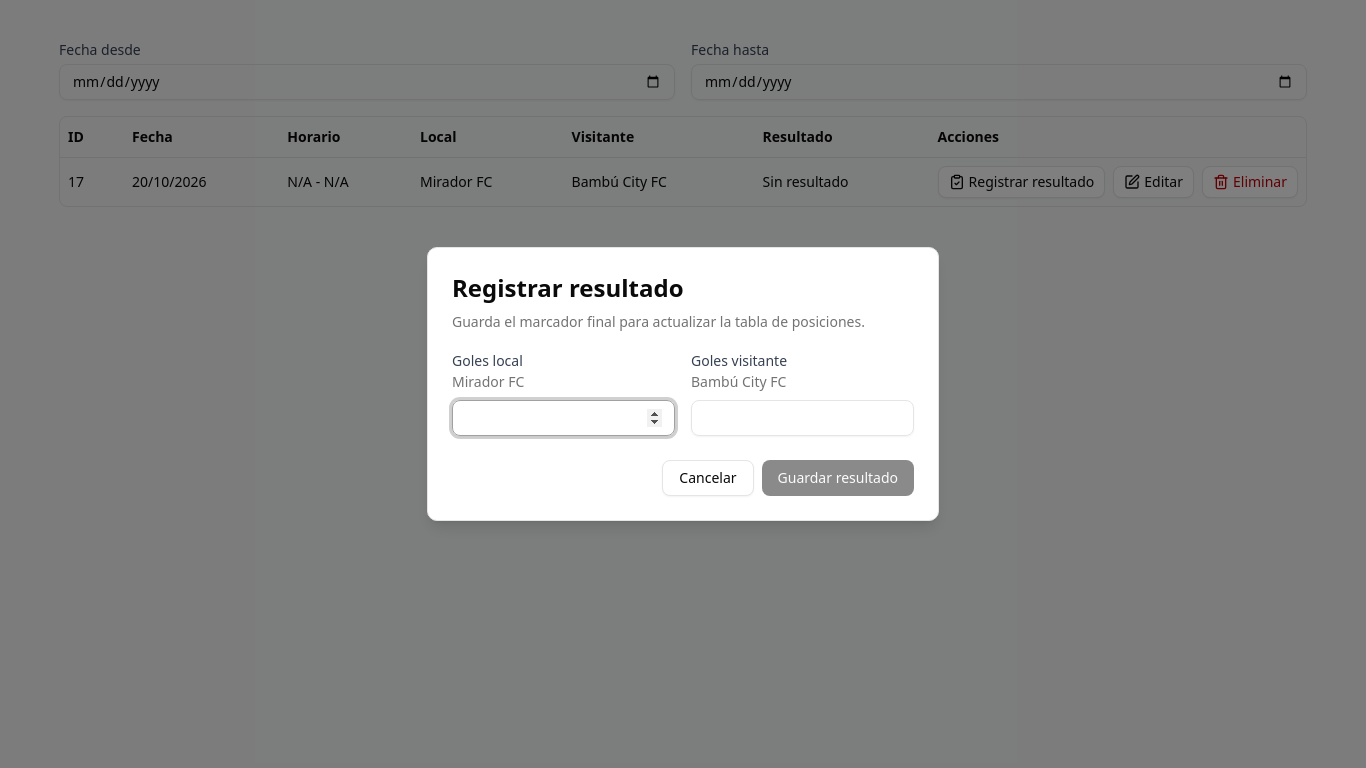
Test case: does not submit missing, negative, fractional or out-of-range scores
This screenshot has width=1366, height=768.
Earlier steps of the test are not shown.
Later steps or results of the test are not shown.
Expected: the text "Mirador FC" is shown, [452,372,524,391]
Expected: the text "Bambú City FC" is shown, [691,372,786,391]
Type "2" into the number field labelled "Goles local" at (564, 418), box [452,400,675,436]
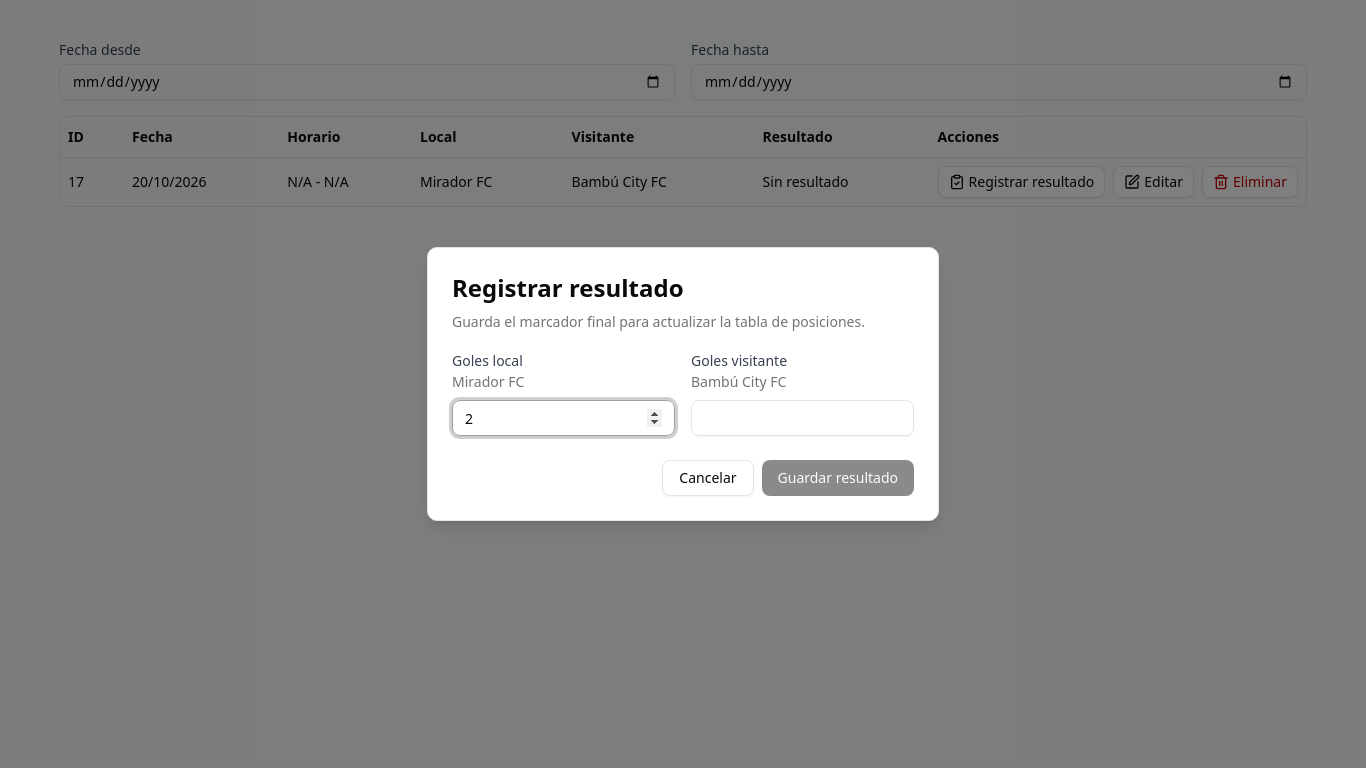
Type "0" into the number field labelled "Goles visitante" at (802, 418), box [691,400,914,436]
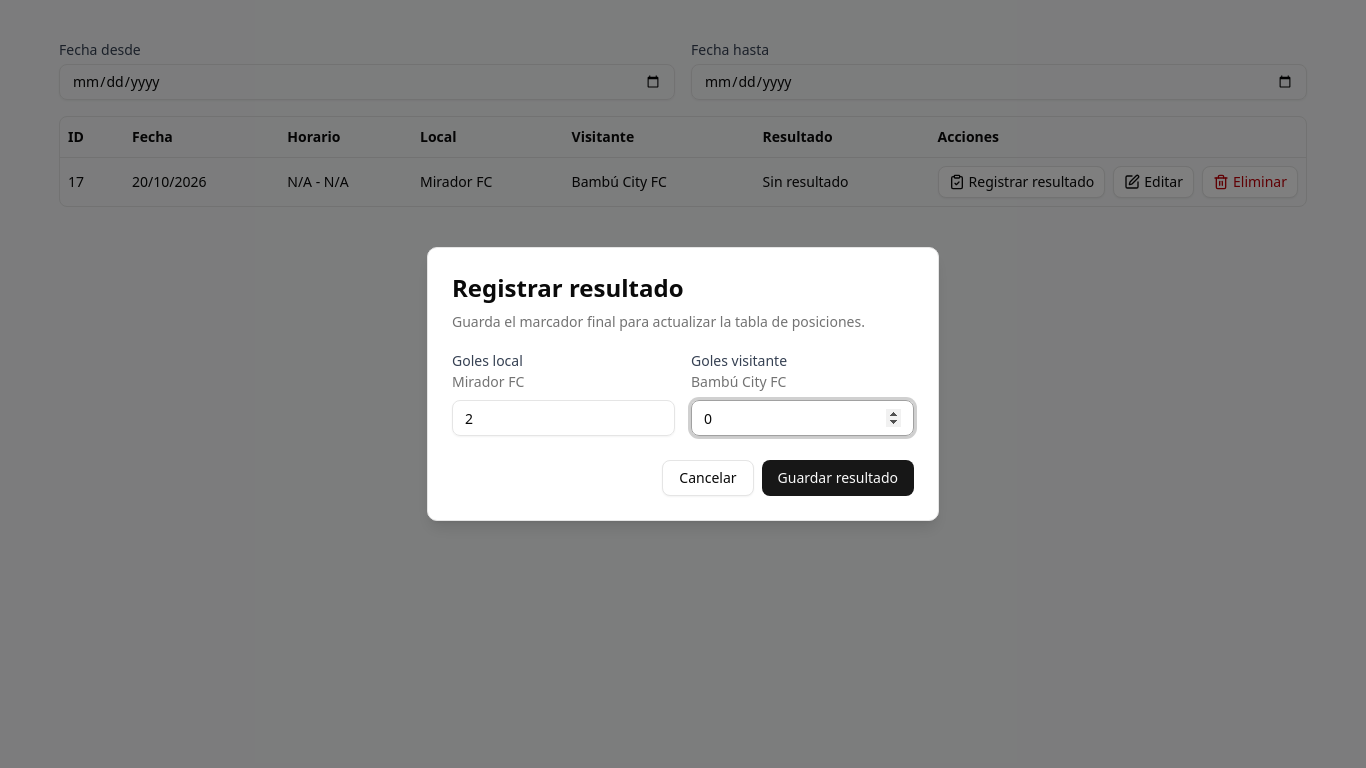
Clear the number field labelled "Goles local" at (564, 418), box [452,400,675,436]
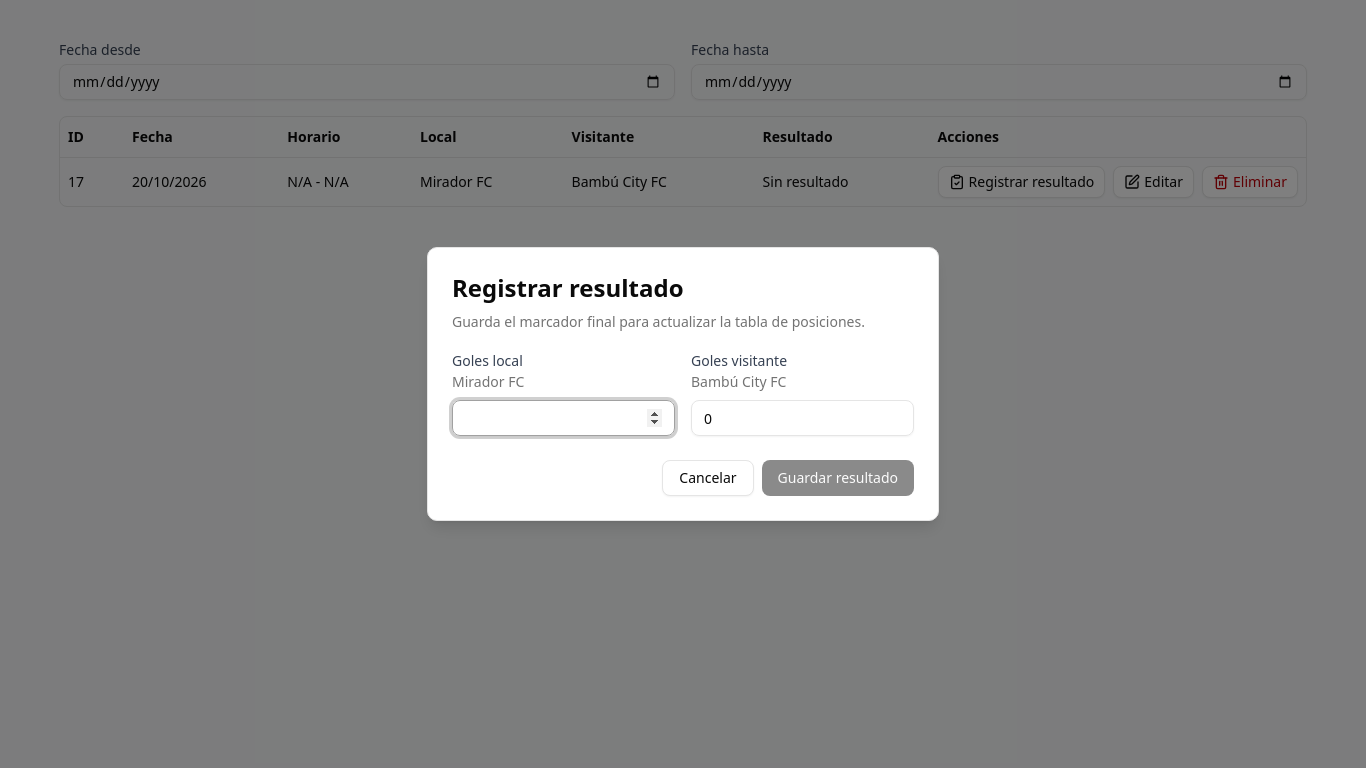
Expected: the button "Guardar resultado" is disabled, [762,460,914,496]
Type "-1" into the number field labelled "Goles local" at (564, 418), box [452,400,675,436]
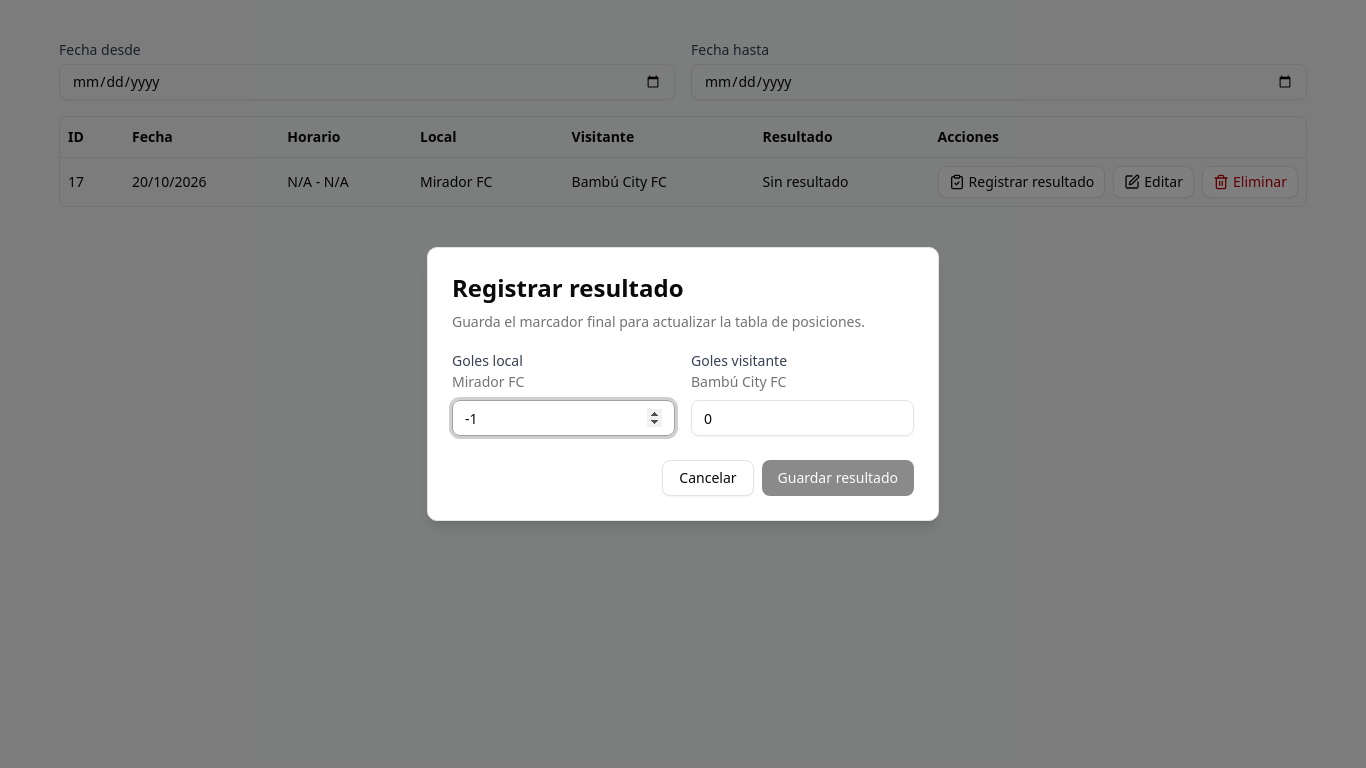
Expected: the button "Guardar resultado" is disabled, [762,460,914,496]
Submit the form "Guardar resultado", box [452,348,914,496]
Replace the text in the number field labelled "Goles local" with "1.5" at (564, 418), box [452,400,675,436]
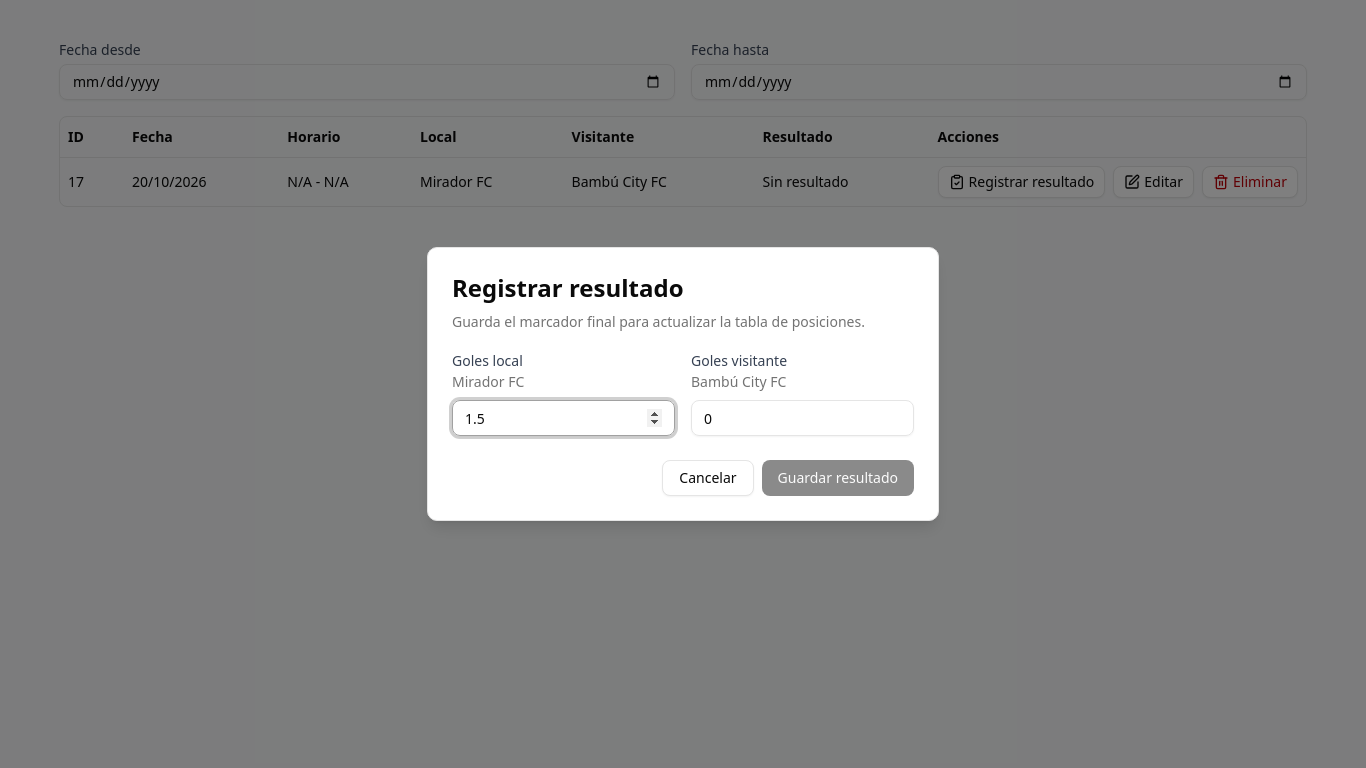
Expected: the button "Guardar resultado" is disabled, [762,460,914,496]
Submit the form "Guardar resultado", box [452,348,914,496]
Replace the text in the number field labelled "Goles local" with "2147483648" at (564, 418), box [452,400,675,436]
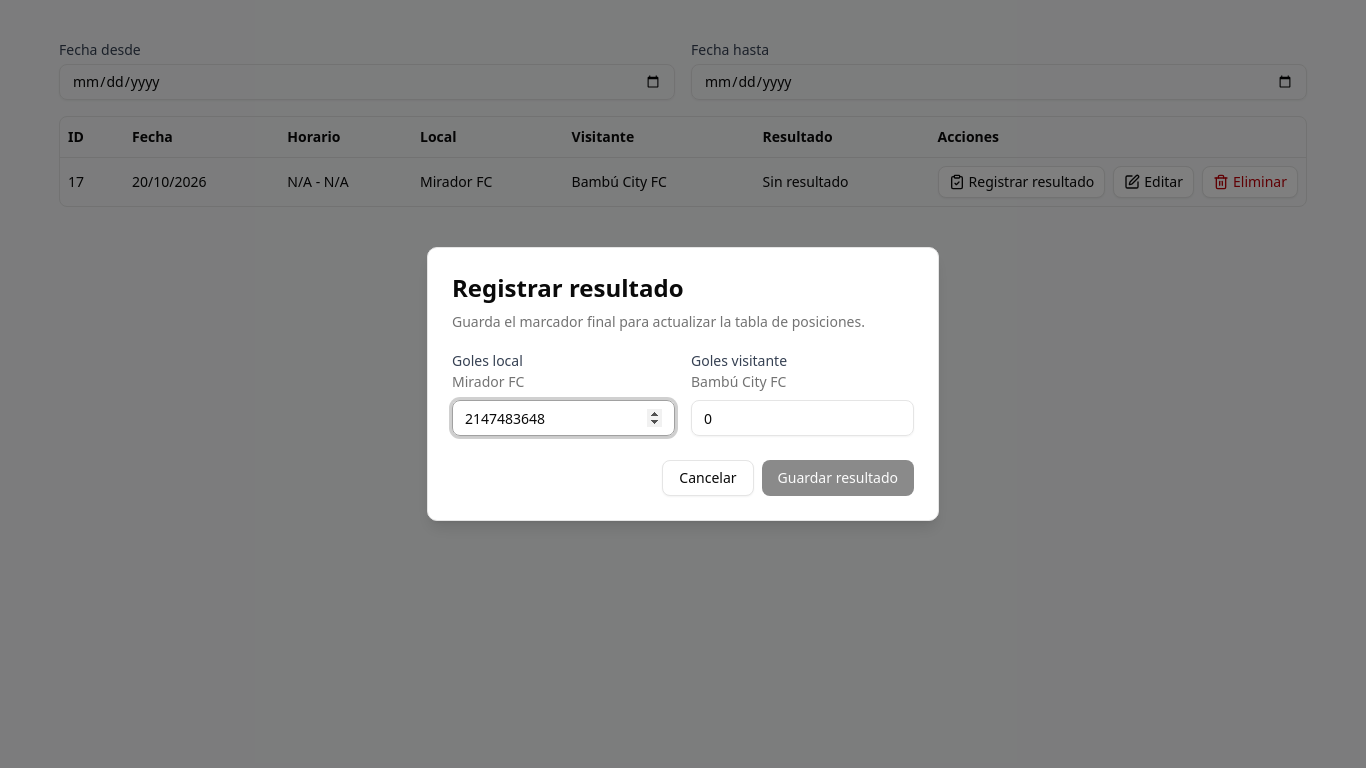
Expected: the button "Guardar resultado" is disabled, [762,460,914,496]
